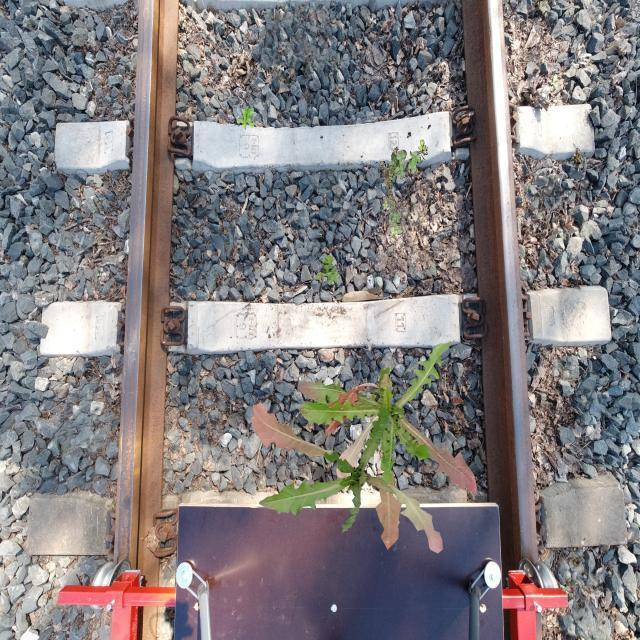Plant: (297, 342, 477, 550), (251, 402, 444, 554), (379, 140, 428, 244), (316, 255, 340, 286), (237, 106, 254, 130)
